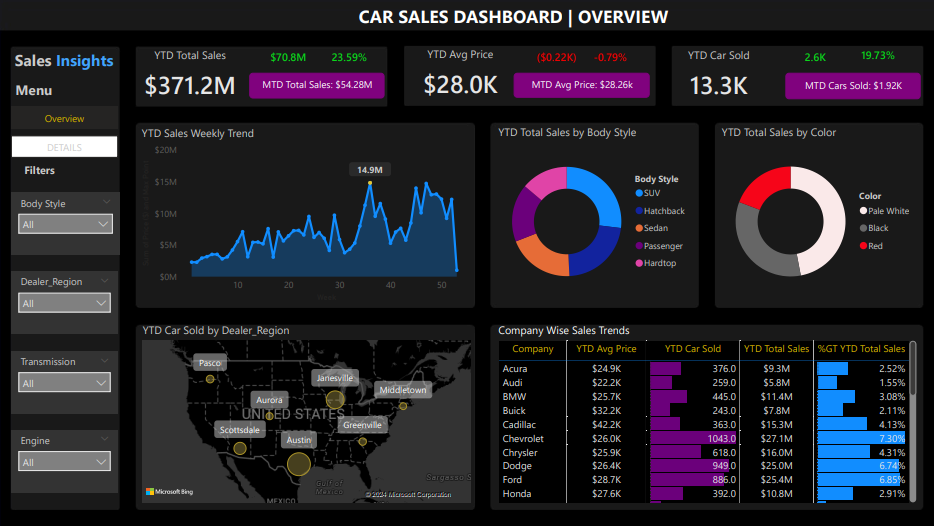

The dashboard page shown, as its layout file describes it:
{"tool":"powerbi","page":{"name":"Overview","canvas":[1280,720],"ordinal":0},"visuals":[{"type":"card","title":"YTD Total Sales ","fields":{"Values":["car_data.YTD Total Sales"]},"box":[187.3,64.1,147.9,82.2],"z":0},{"type":"card","fields":{"Values":["car_data.Sales Difference"]},"box":[336.8,64.1,116.7,29.6],"z":1000},{"type":"card","fields":{"Values":["car_data.YOY Sales Growth"]},"box":[421.1,63.7,115.8,30.2],"z":2000},{"type":"card","fields":{"Values":["car_data.MTD KPI"]},"box":[341.8,98.6,185.7,35],"z":3000},{"type":"card","title":"YTD Avg Price","fields":{"Values":["car_data.YTD Avg Price"]},"box":[557,62.4,147.9,82.2],"z":4000},{"type":"card","fields":{"Values":["car_data.Avg Price Diff"]},"box":[704.4,63.8,116.2,29.8],"z":5000},{"type":"card","fields":{"Values":["car_data.YOY Avg Price Growth"]},"box":[778.1,63.8,116.2,29.8],"z":6000},{"type":"card","fields":{"Values":["car_data.MTD Avg Price KPI"]},"box":[704.4,99.2,185.7,34],"z":7000},{"type":"card","title":"YTD Car Sold","fields":{"Values":["car_data.YTD Car Sold"]},"box":[911.3,63.8,147.4,82.2],"z":8000},{"type":"card","fields":{"Values":["car_data.Cars Sold Diff"]},"box":[1058.7,63.8,116.2,29.8],"z":9000},{"type":"card","fields":{"Values":["car_data.YoY Cars Solds Growth"]},"box":[1145.2,62.4,116.2,29.8],"z":10000},{"type":"card","fields":{"Values":["car_data.MTD Cars Sold KPI"]},"box":[1075.7,99.2,185.7,35.4],"z":11000},{"type":"areaChart","title":"YTD Sales Weekly Trend","fields":{"Category":["Calender Table.Week"],"Y":["Sum(car_data.Price ($))","car_data.Max Point"]},"box":[189.9,171.5,457.8,245.2],"z":12000},{"type":"donutChart","fields":{"Category":["car_data.Body Style"],"Y":["car_data.YTD Total Sales"]},"box":[677.6,169.8,275.9,244.9],"z":13000},{"type":"donutChart","fields":{"Y":["car_data.YTD Total Sales"],"Category":["car_data.Color"]},"box":[984.5,169.8,275.9,244.9],"z":14000},{"type":"map","fields":{"Category":["car_data.Dealer_Region"],"Size":["car_data.YTD Car Sold"]},"box":[191,440.8,458.8,251.4],"z":15000},{"type":"tableEx","title":"Company Wise Sales Trends","fields":{"Values":["car_data.Company","car_data.YTD Avg Price","car_data.YTD Car Sold","car_data.YTD Total Sales1","car_data.YTD Total Sales"]},"box":[677.6,440.8,582.9,251.4],"z":16000},{"type":"textbox","box":[477.6,0,452.1,46.8],"z":17000},{"type":"slicer","fields":{"Values":["car_data.Body Style"]},"box":[16.3,262.9,148.6,84.9],"z":18000},{"type":"slicer","fields":{"Values":["car_data.Dealer_Region"]},"box":[16.3,370.6,145.3,84.9],"z":19000},{"type":"slicer","fields":{"Values":["car_data.Transmission"]},"box":[16.3,480,145.3,84.9],"z":20000},{"type":"slicer","fields":{"Values":["car_data.Engine"]},"box":[16.3,587.8,145.3,84.9],"z":21000},{"type":"textbox","box":[29.4,217.1,60.4,34.3],"z":22000},{"type":"textbox","box":[16.3,62,179.6,45.7],"z":23000},{"type":"textbox","box":[17,104.9,75.1,35.4],"z":24000},{"type":"pageNavigator","box":[16.3,145.3,146.9,71.8],"z":25000}]}

Visuals, with their boxes in screenshot pixels (x1, y1, x2, y2), scaled from the page's 1280x720 canvas onto the 934x526 screenshot:
"YTD Total Sales " card: 137:47:245:107
card - car_data.Sales Difference: 246:47:331:68
card - car_data.YOY Sales Growth: 307:47:392:69
card - car_data.MTD KPI: 249:72:385:98
"YTD Avg Price" card: 406:46:514:106
card - car_data.Avg Price Diff: 514:47:599:68
card - car_data.YOY Avg Price Growth: 568:47:653:68
card - car_data.MTD Avg Price KPI: 514:72:649:97
"YTD Car Sold" card: 665:47:773:107
card - car_data.Cars Sold Diff: 773:47:857:68
card - car_data.YoY Cars Solds Growth: 836:46:920:67
card - car_data.MTD Cars Sold KPI: 785:72:920:98
"YTD Sales Weekly Trend" areaChart: 139:125:473:304
donutChart - car_data.Body Style x car_data.YTD Total Sales: 494:124:696:303
donutChart - car_data.YTD Total Sales x car_data.Color: 718:124:920:303
map - car_data.Dealer_Region x car_data.YTD Car Sold: 139:322:474:506
"Company Wise Sales Trends" tableEx: 494:322:920:506
textbox: 348:0:678:34
slicer - car_data.Body Style: 12:192:120:254
slicer - car_data.Dealer_Region: 12:271:118:333
slicer - car_data.Transmission: 12:351:118:413
slicer - car_data.Engine: 12:429:118:491
textbox: 21:159:66:184
textbox: 12:45:143:79
textbox: 12:77:67:102
pageNavigator: 12:106:119:159
